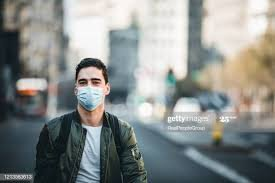mask: (67, 51, 120, 119)
